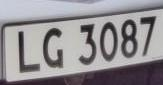0: (97, 18, 119, 66)
3: (75, 18, 99, 71)
7: (138, 12, 158, 59)
8: (119, 14, 140, 63)
G: (41, 22, 67, 76)
L: (13, 24, 41, 79)
